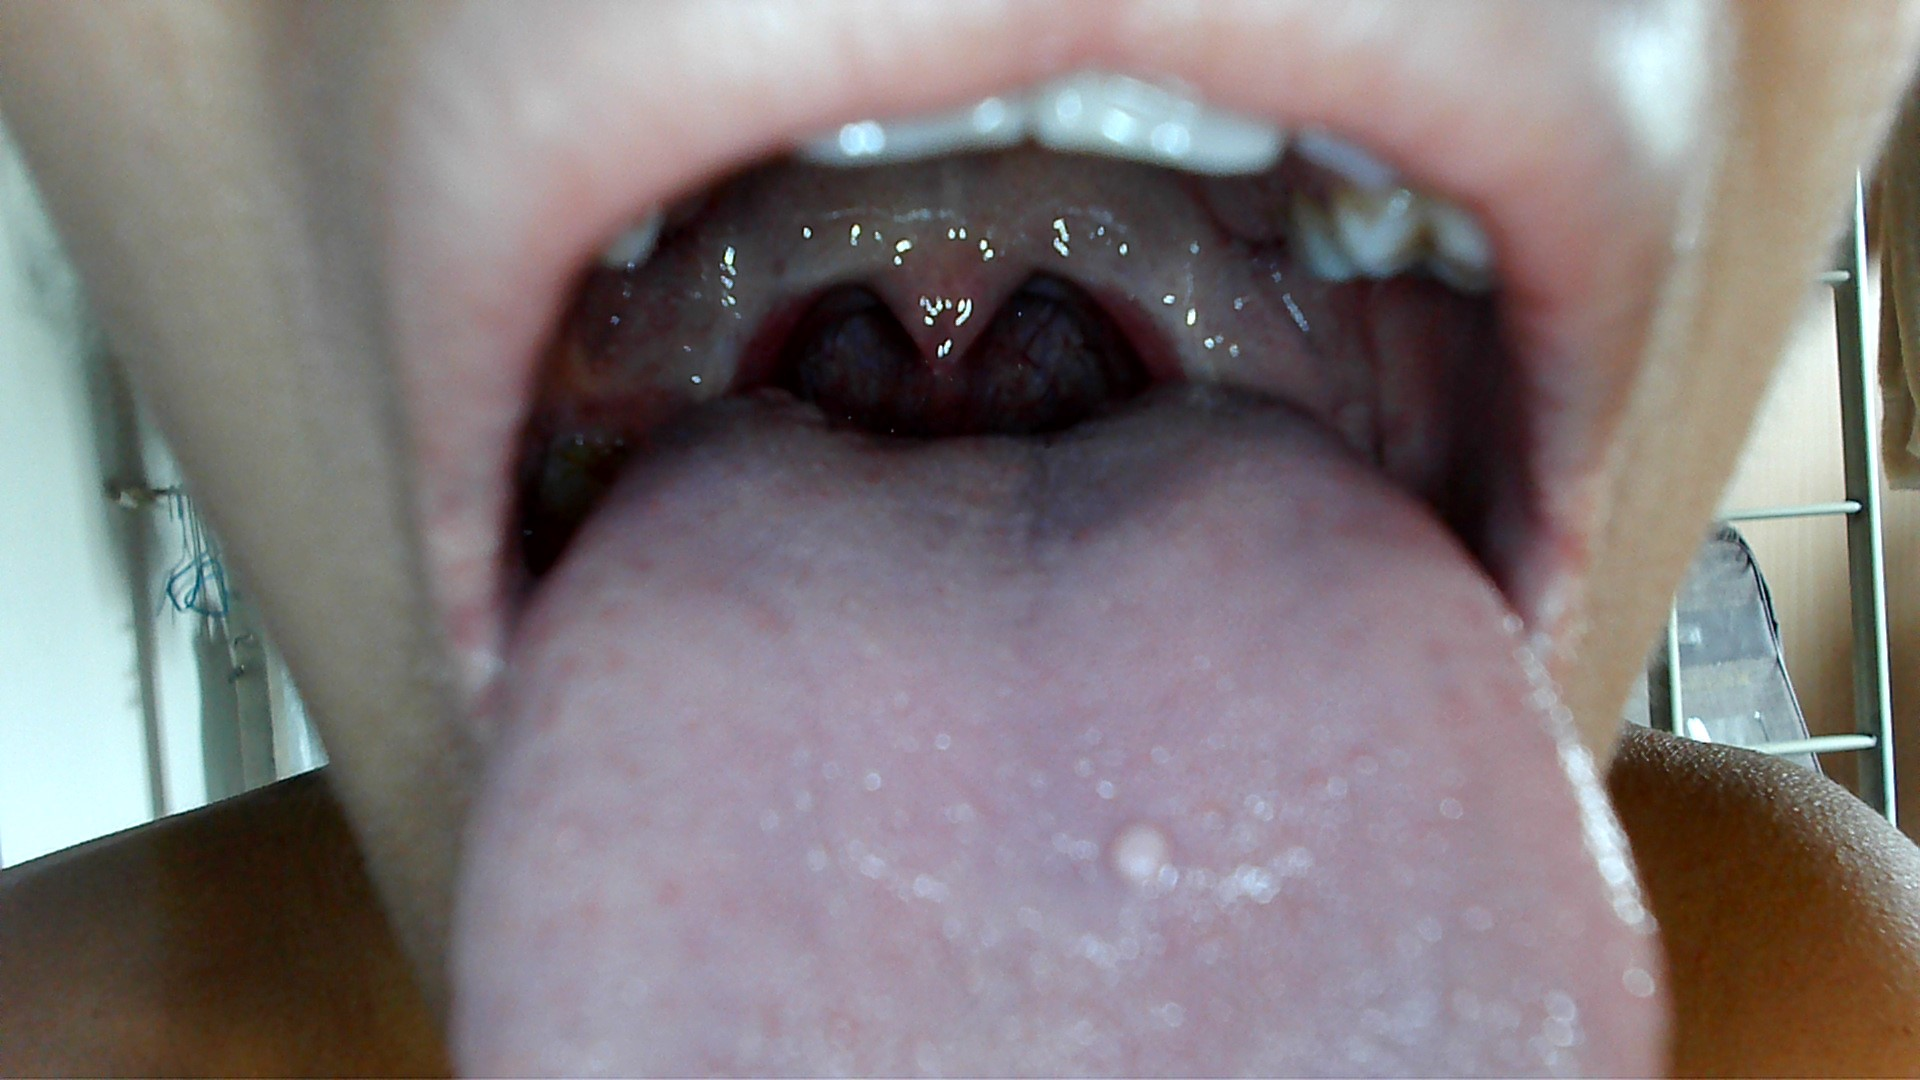throat: (1098, 216, 1270, 388), (674, 252, 778, 411)
